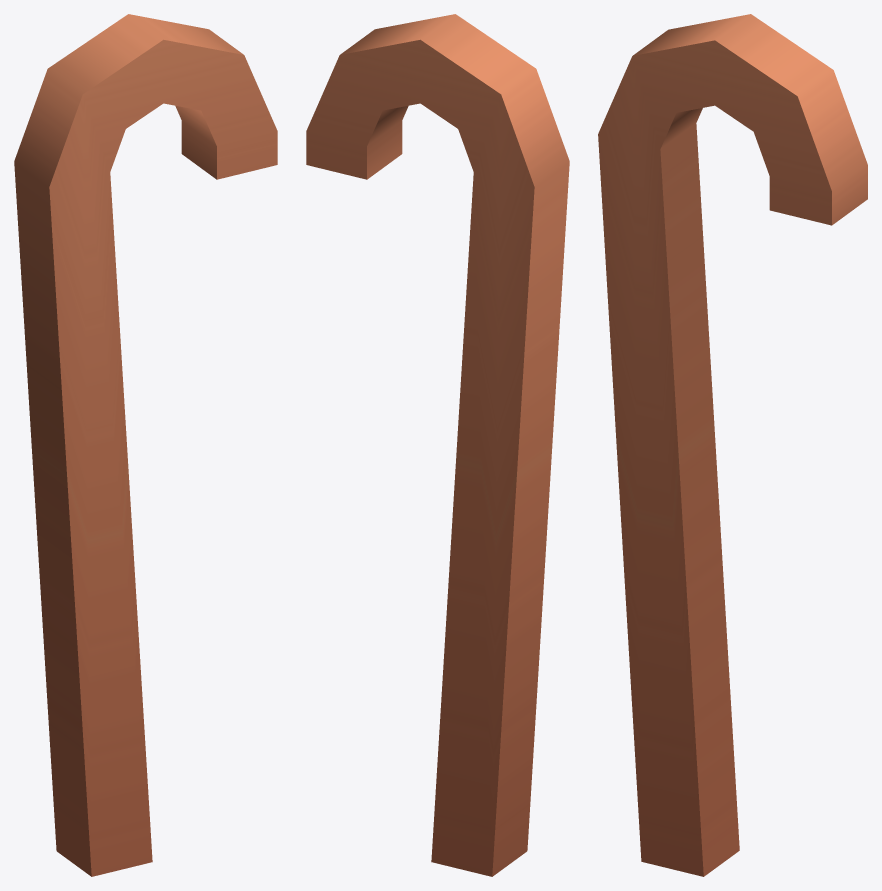
File: varita_cerca.fbx
The picture shows the model from 3 angles, left to right: view 1: azimuth 30°, elevation 25°; view 2: azimuth 150°, elevation 25°; view 3: azimuth 330°, elevation 25°; orthographic projection. The views are drawn at different scales.
Parts seen in each view (by area): view 1: varita_cerca; view 2: varita_cerca; view 3: varita_cerca.
Boxes of the visible parts, box(x1,y1,x2,y2) form: varita_cerca: box(14, 14, 277, 876); varita_cerca: box(306, 14, 569, 876); varita_cerca: box(598, 14, 867, 876).
Bounding box in the file's own units: 31.21 × 107 × 8.32.
1 material, 1 textured.
